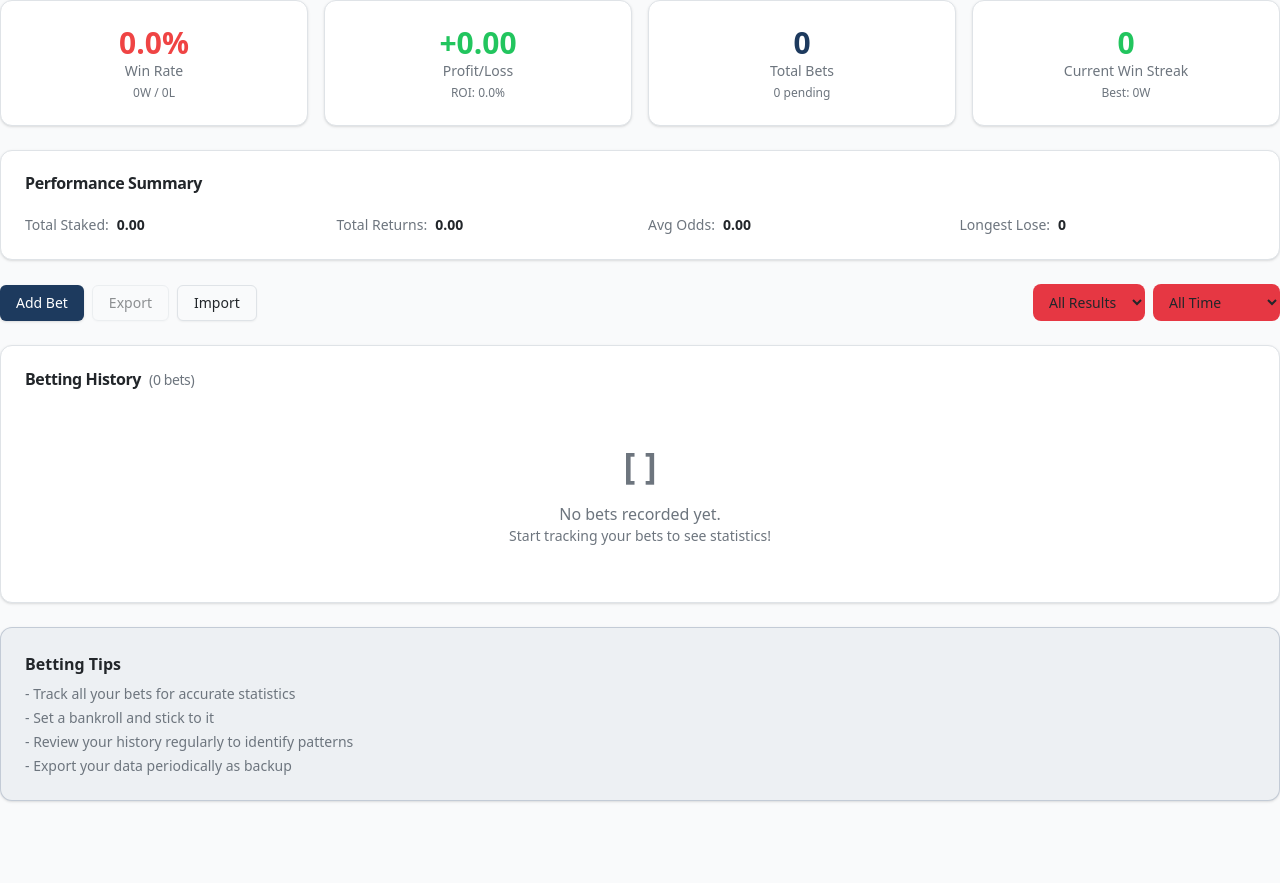
BettingHistoryTracker › Add Bet Form › toggles add bet form
Click the button "Add Bet". click: (42, 302)
box: x1=0 y1=284 x2=84 y2=320
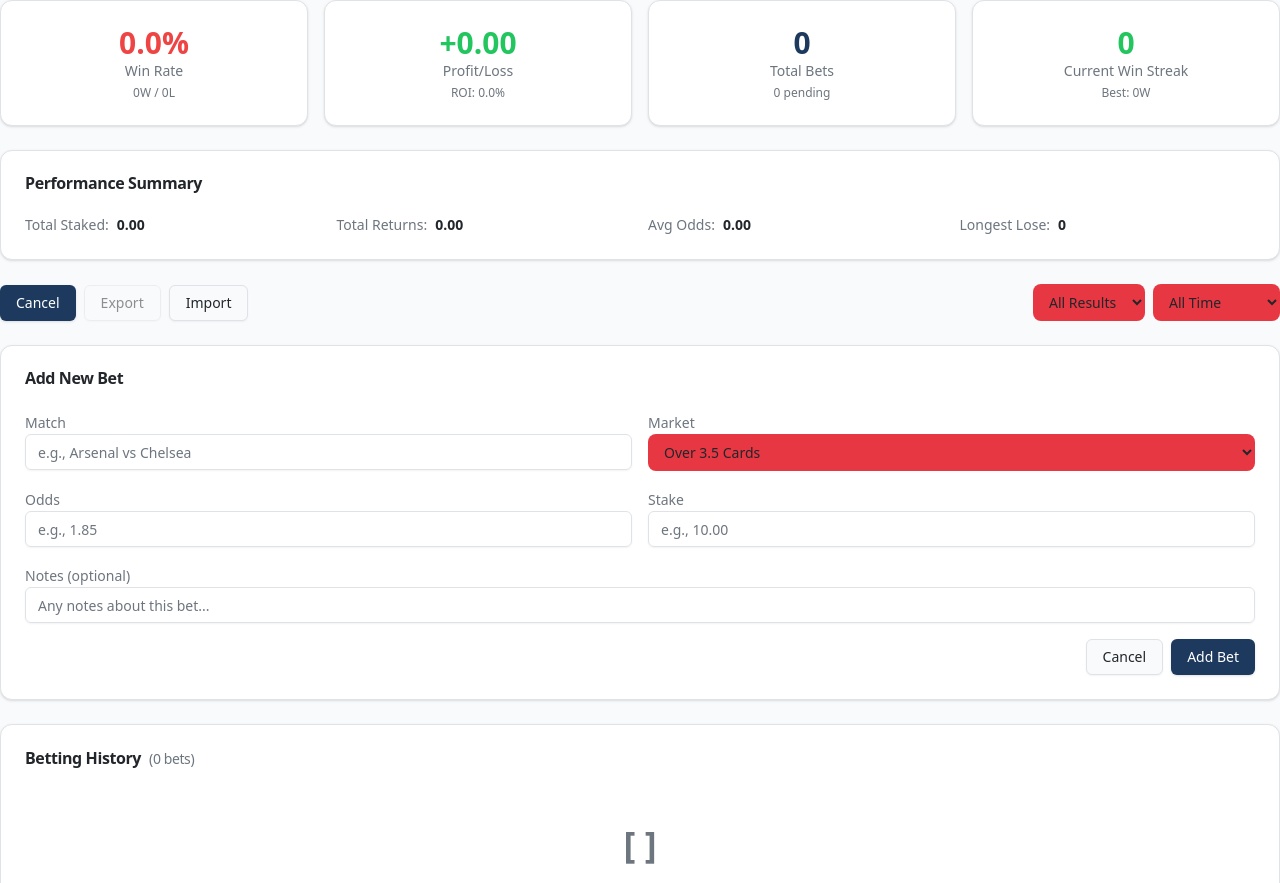
Expected: the text "Add New Bet" is shown, x1=25 y1=367 x2=123 y2=389
Expected: the field with placeholder "e.g., Arsenal vs Chelsea" is shown, x1=25 y1=434 x2=632 y2=470
